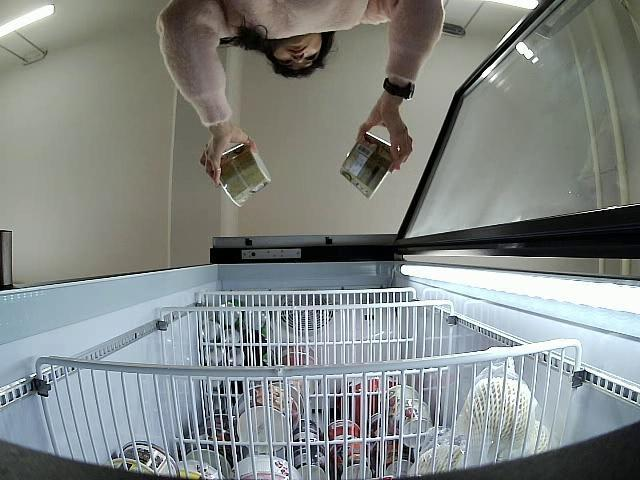03_chapagetti_L: (340, 133, 398, 200), (211, 144, 272, 206)
